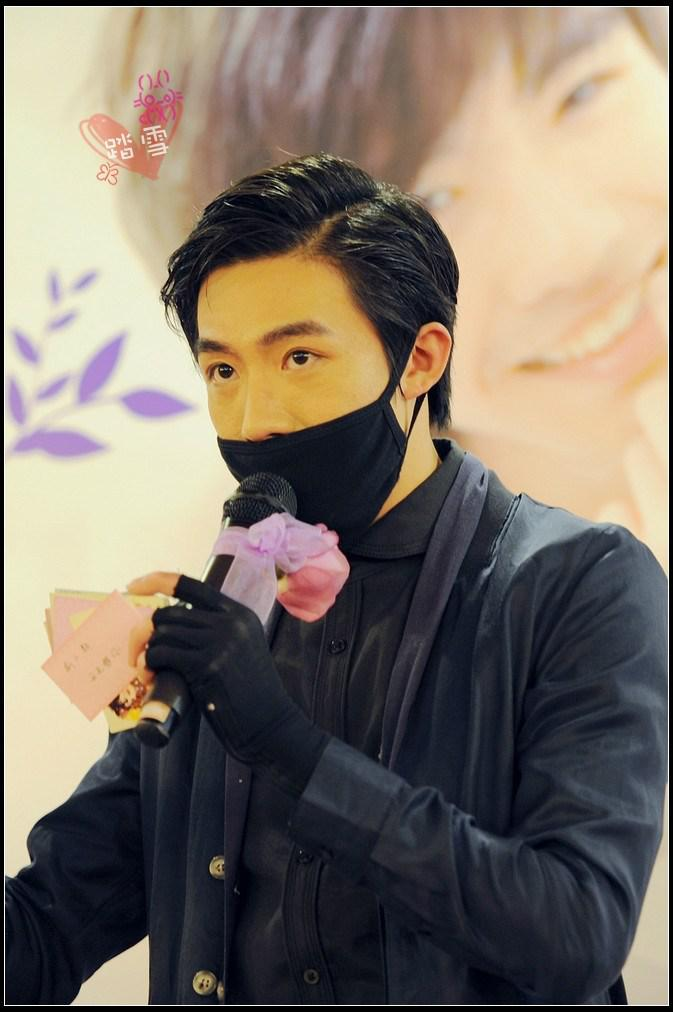NONE: (316, 29, 673, 434)
WRONG: (195, 317, 397, 532)
